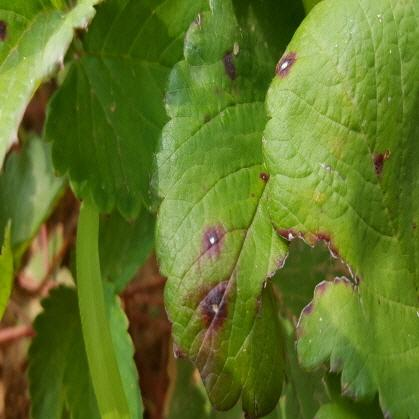Leaf Spot: (261, 0, 418, 418), (148, 0, 304, 418)
